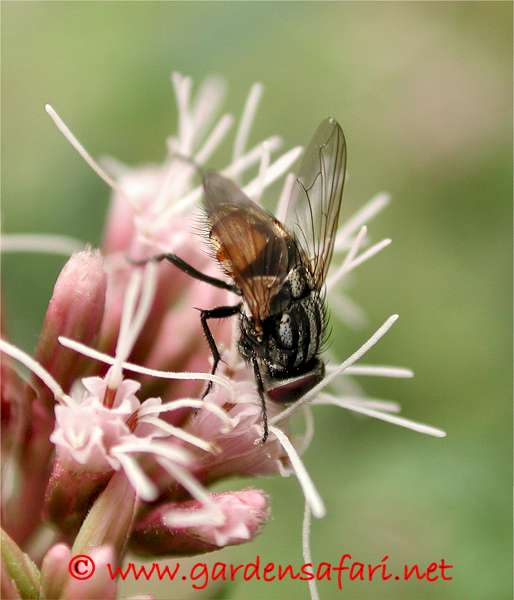green bottles fly: (158, 105, 364, 444)
